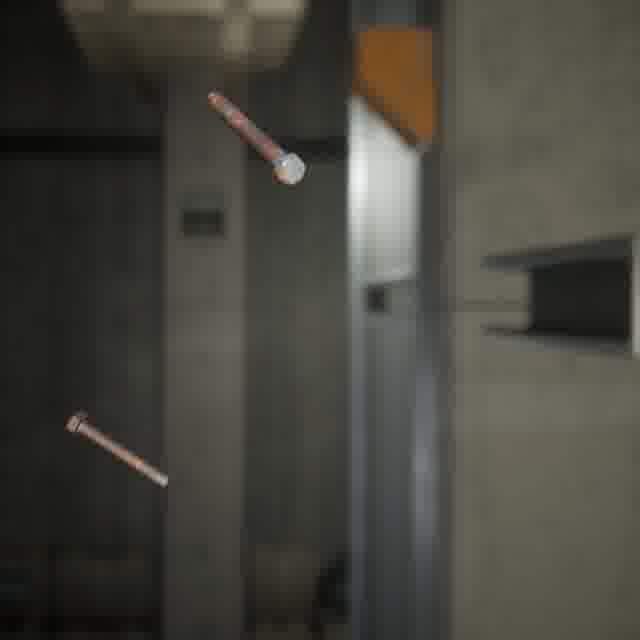bolt: (202, 88, 310, 190), (62, 406, 176, 493)
